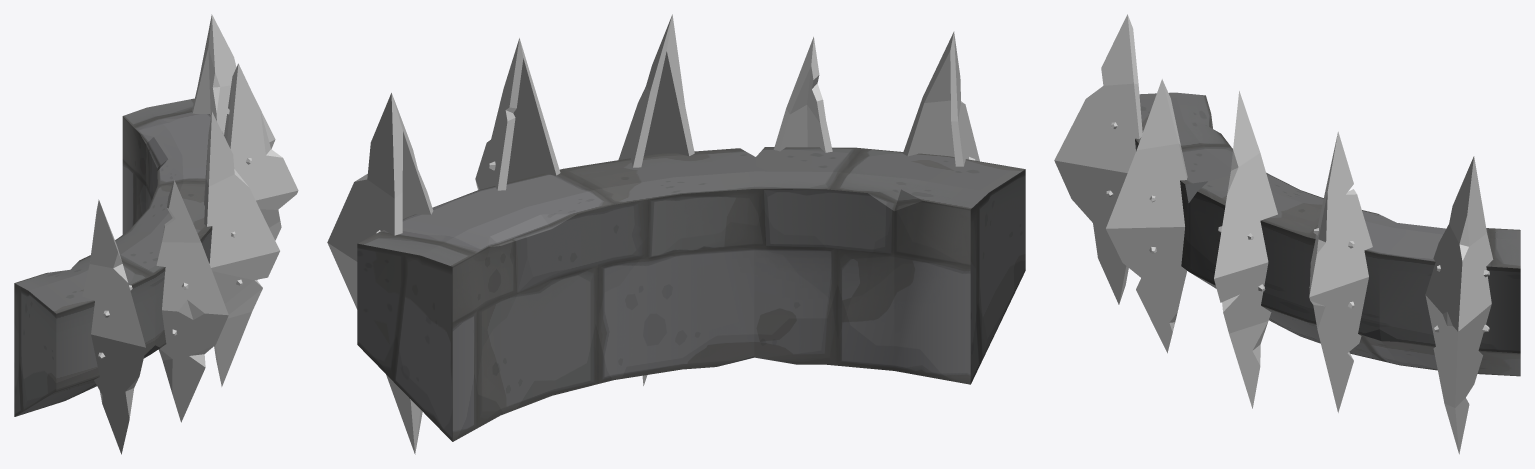
Rendered from SM_Bld_Battlements_L_Curve_03.fbx.
3 renders of one model, left to right at view 1: azimuth 30°, elevation 25°; view 2: azimuth 150°, elevation 25°; view 3: azimuth 270°, elevation 25°, orthographic. The views are drawn at different scales.
Visible parts, largest first — view 1: SM_Bld_Battlements_L_Curve_03; view 2: SM_Bld_Battlements_L_Curve_03; view 3: SM_Bld_Battlements_L_Curve_03.
Boxes of the visible parts, <box> form: SM_Bld_Battlements_L_Curve_03: <box>14,14,298,454</box>; SM_Bld_Battlements_L_Curve_03: <box>327,14,1025,454</box>; SM_Bld_Battlements_L_Curve_03: <box>1054,14,1520,454</box>.
Size of the model in its own units: 524 by 382 by 515.
